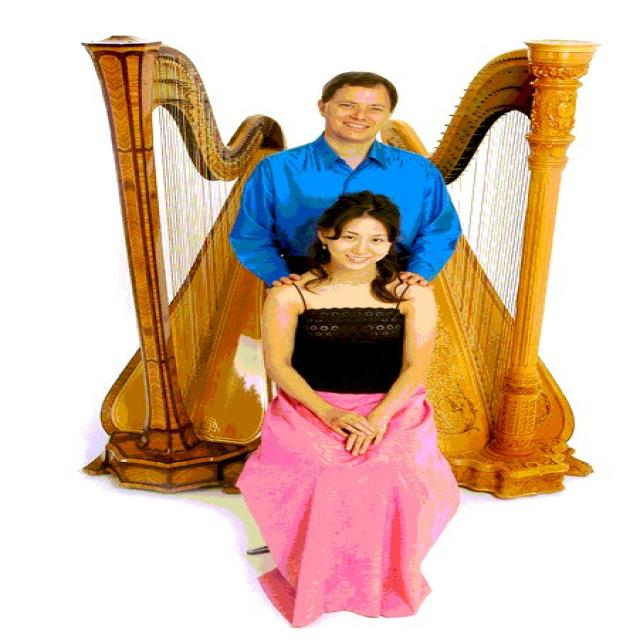harp: (67, 31, 299, 496), (373, 36, 602, 499)
